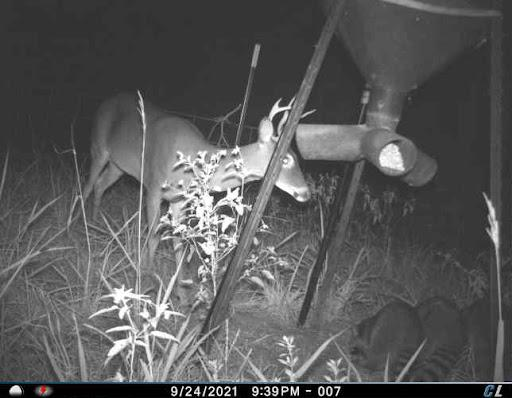Deer: (67, 78, 319, 316)
